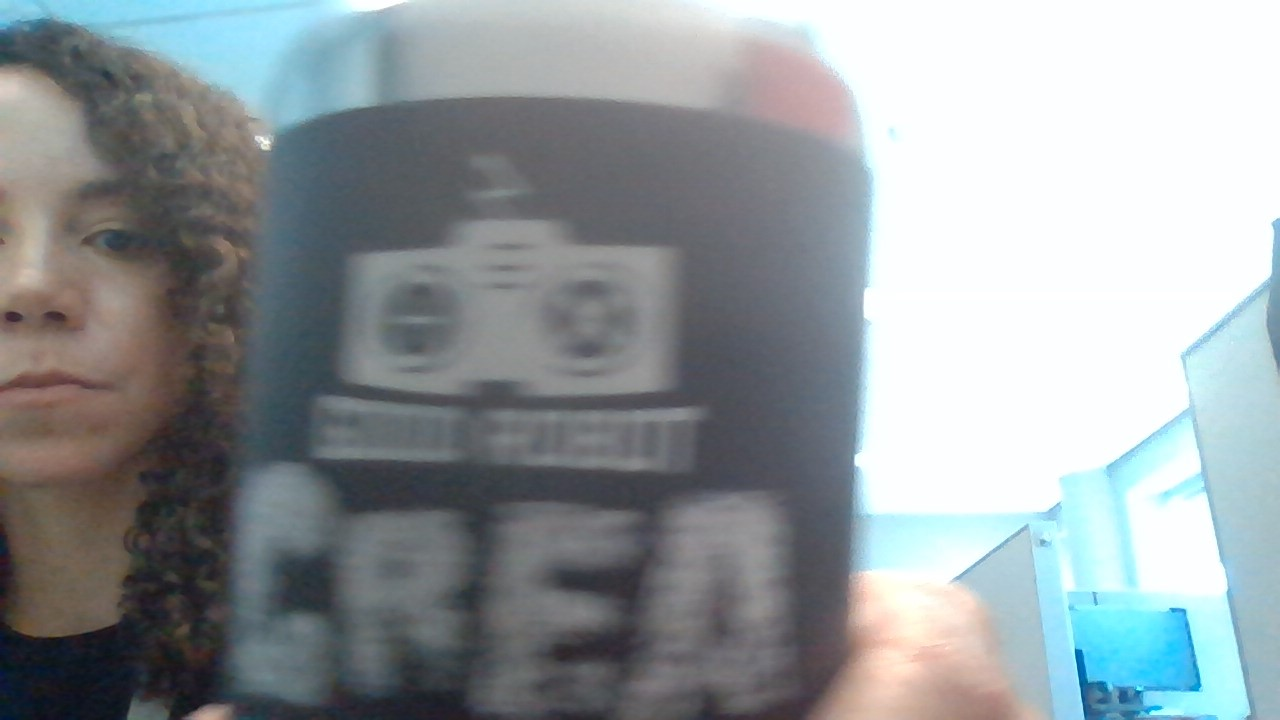Good Robot: (332, 151, 724, 402)
